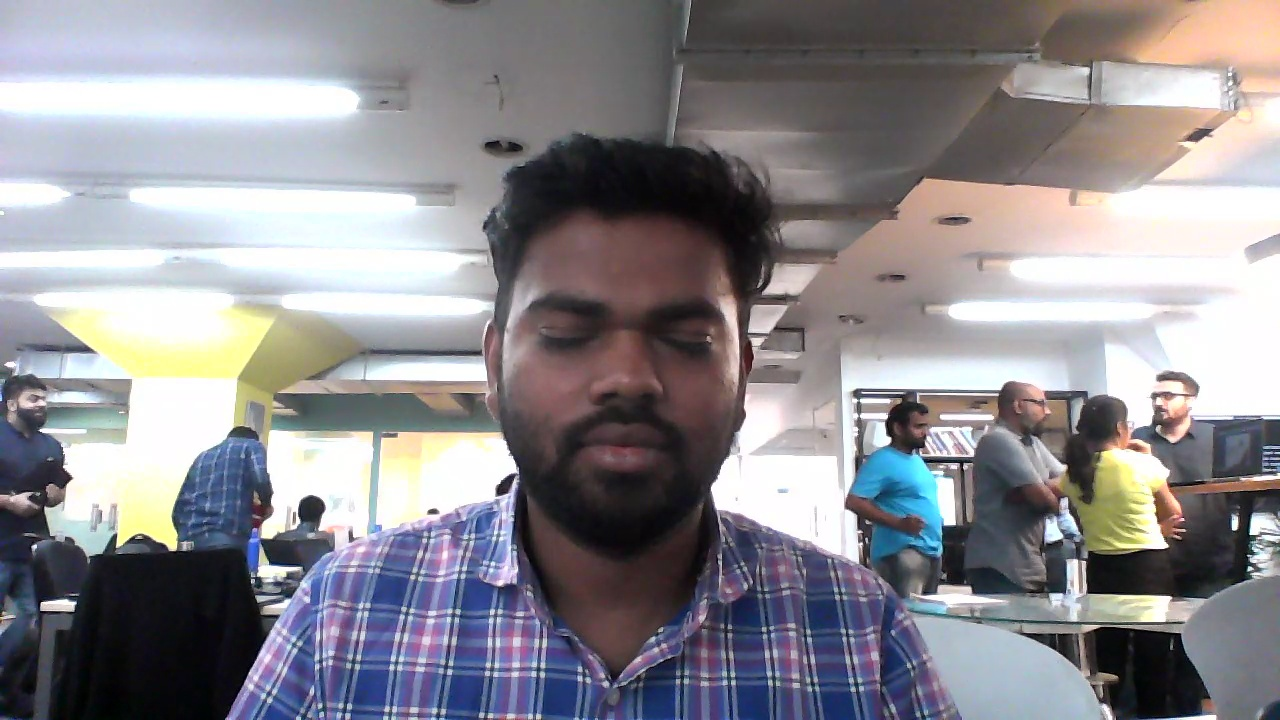closed: (477, 122, 786, 571)
